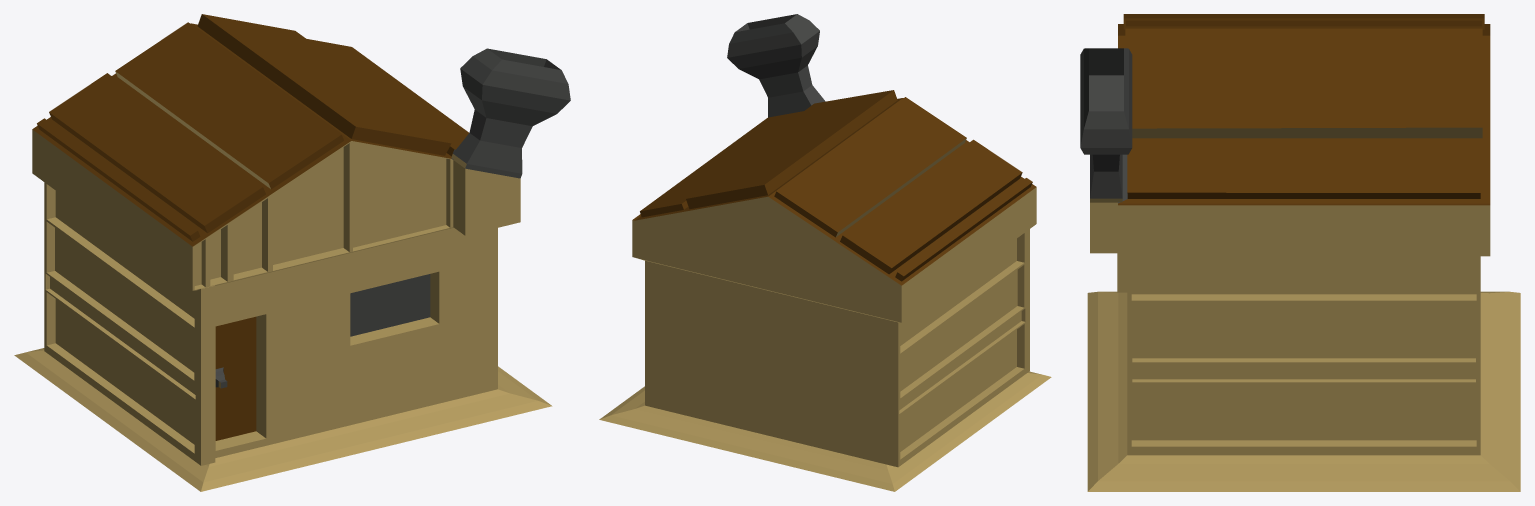
File: lumber jack house.fbx
The picture shows the model from 3 angles, left to right: view 1: azimuth 30°, elevation 25°; view 2: azimuth 150°, elevation 25°; view 3: azimuth 270°, elevation 25°; orthographic projection. The views are drawn at different scales.
Parts seen in each view (by area): view 1: Cube; view 2: Cube; view 3: Cube.
Boxes of the visible parts, bbox=[...] form: Cube: bbox=[14, 14, 570, 491]; Cube: bbox=[599, 14, 1051, 491]; Cube: bbox=[1080, 14, 1520, 491].
Bounding box in the file's own units: 2373 × 2214 × 2126.
